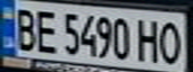0: (112, 15, 133, 61)
4: (78, 11, 96, 57)
5: (57, 9, 81, 56)
9: (93, 12, 115, 59)
B: (9, 3, 39, 52)
E: (30, 7, 60, 54)
H: (133, 16, 163, 63)
O: (157, 17, 187, 65)
